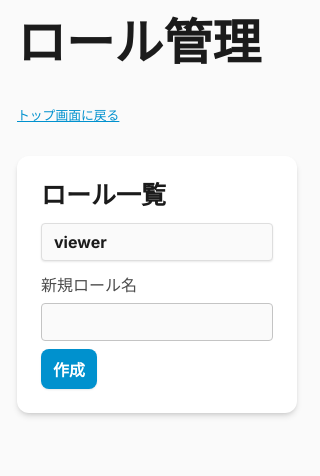
Test: admin roles page › 新規ロール作成フォームからPOSTを呼び、一覧を再取得する
This screenshot has width=320, height=476.
expect the button "viewer" is shown: met, box x1=41 y1=223 x2=273 y2=261
Type "new-role" into the field labelled "新規ロール名" at (157, 322), box x1=41 y1=303 x2=273 y2=341
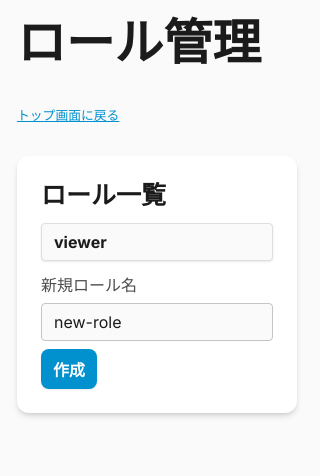
Click the button "作成" at (69, 369), box x1=41 y1=349 x2=97 y2=389
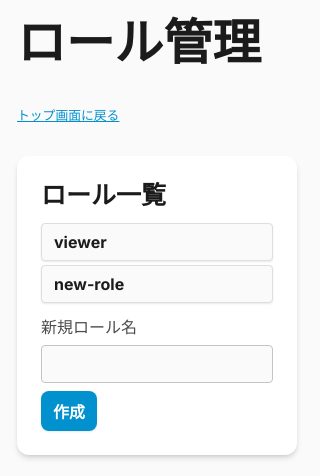
expect the button "new-role" is shown: met, box x1=41 y1=265 x2=273 y2=303
